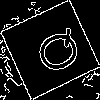Q: (25, 24, 85, 82)
